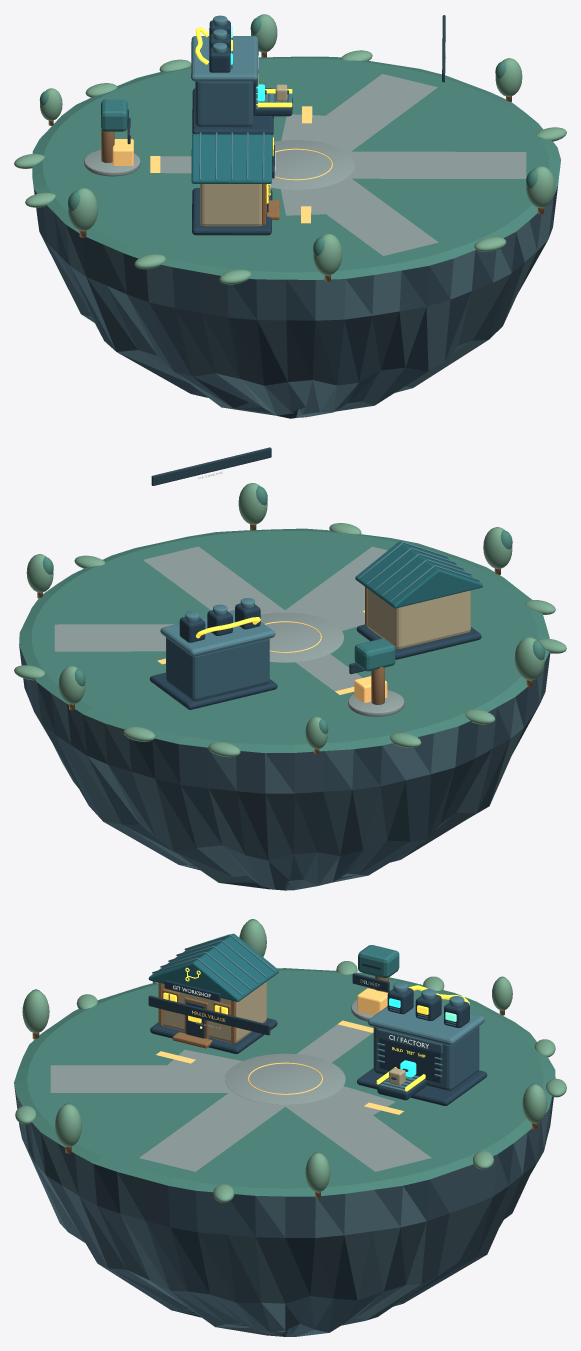
File: district-development.glb
3 views of the same model, one above another, from view 1: azimuth 30°, elevation 25°; view 2: azimuth 150°, elevation 25°; view 3: azimuth 270°, elevation 25° (orthographic).
Parts seen in each view (by area): view 1: district-development; view 2: district-development; view 3: district-development.
Boxes of the visible parts, x1,y1,x2,y2 form: district-development: (14,14,566,418); district-development: (14,447,566,890); district-development: (14,919,566,1336).
Size of the model in its own units: 13.23 by 9.78 by 12.85.
